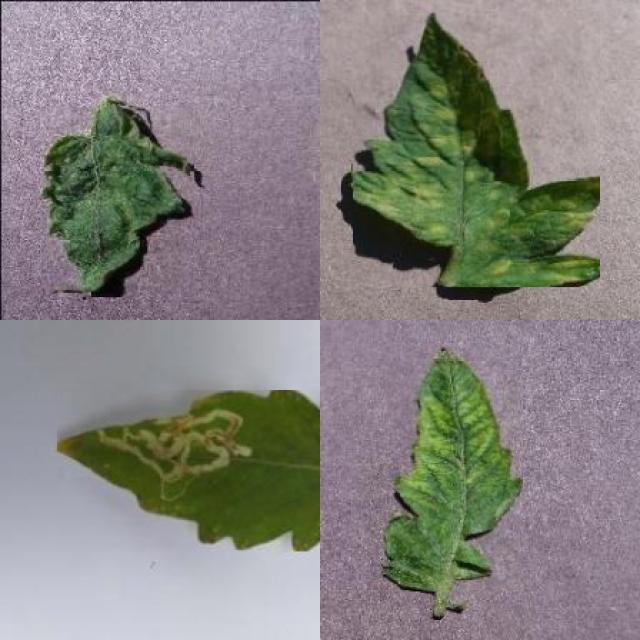Leaf Miner: (57, 390, 320, 551)
Leaf Mold: (353, 12, 600, 287)
Mosaic Virus: (383, 345, 523, 592), (40, 106, 194, 297)
